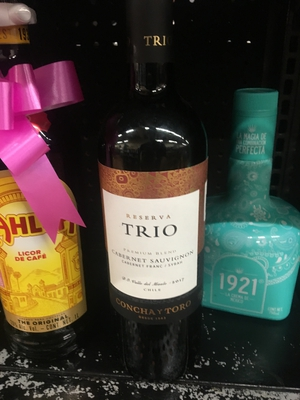trio cabernet sauvignon: (98, 15, 224, 367)
